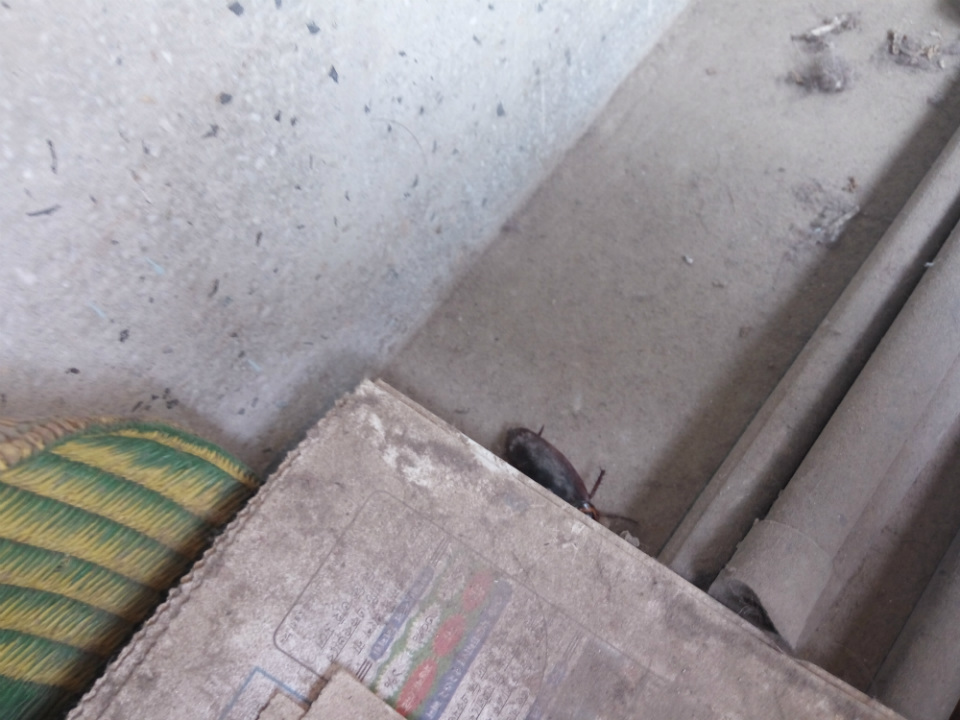cockroach: (482, 398, 650, 530)
